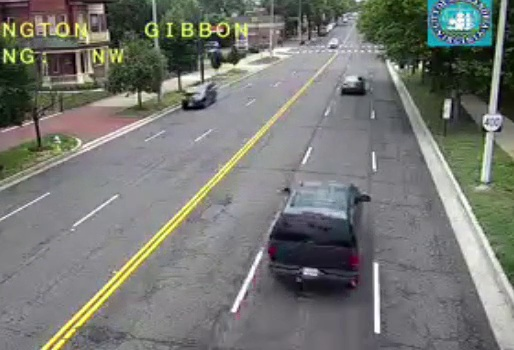car: (269, 184, 361, 290), (341, 77, 364, 94)
